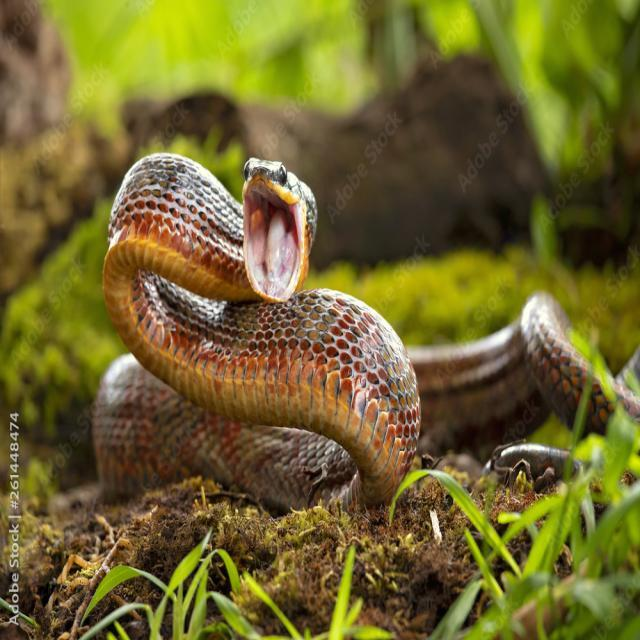Snake: (72, 113, 640, 538)
